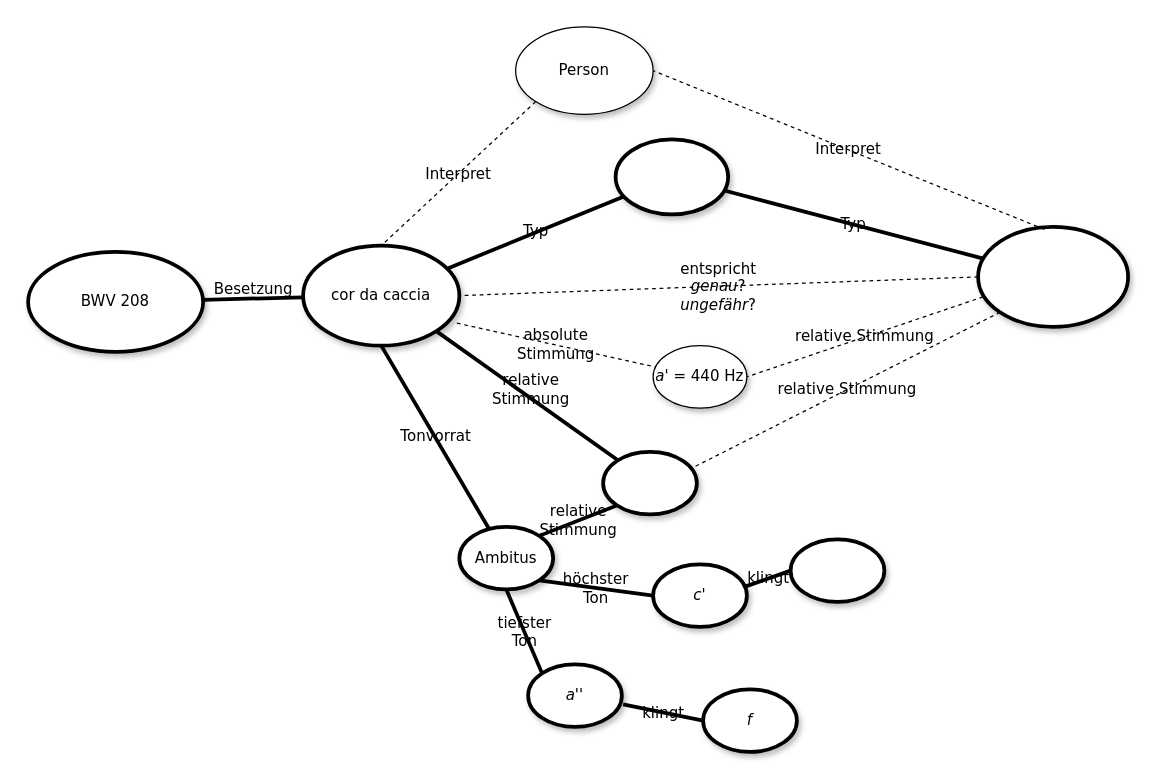
Some shapes in this 1159 by 784 pixel diagram are drawn without their labels. Each missing label, with the centre of its shape:
Barockhorn: (672,178)
d'': (838,572)
in F: (651,484)
Objekt MIMUL Inv.-Nr. 1663: (1054,278)
